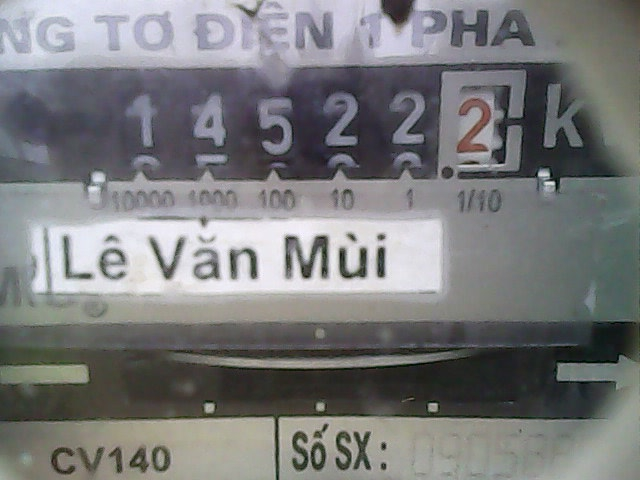phy_plate: (98, 67, 538, 178)
